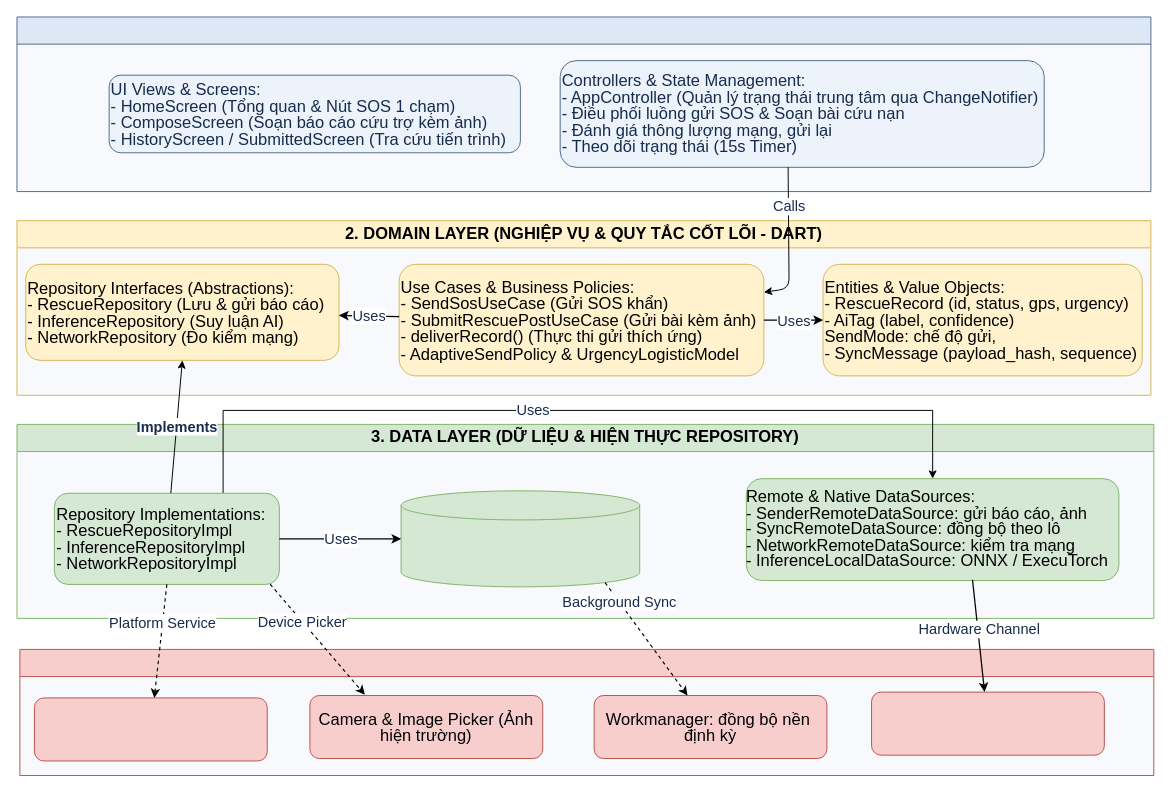
This 1171x792 diagram has some shape labels left out. Each missing label, with the box of its shape:
1. PRESENTATION LAYER (GIAO DIỆN & QUẢN LÝ TRẠNG THÁI): (16, 16, 1151, 192)
4. TÍCH HỢP NỀN TẢNG VÀ THIẾT BỊ: (19, 648, 1154, 776)
Android Telephony (MethodChannel rescue/sms): (871, 691, 1104, 755)
Geolocator (GPS Location Service): (33, 697, 267, 761)
Local DataSources: Hive: bản ghi và Outbox Chuẩn hóa JSON, tính hash: (400, 490, 640, 587)
